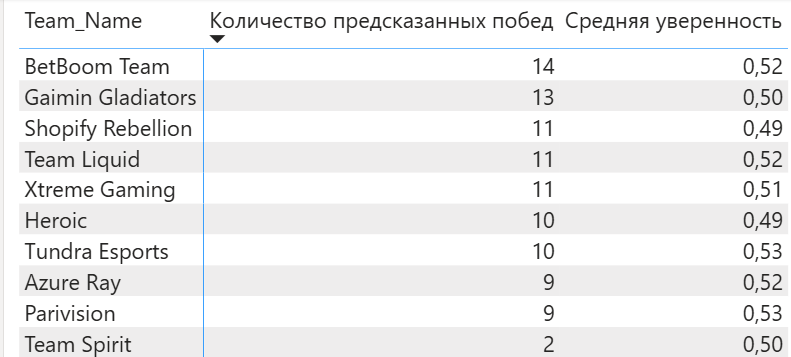

This screenshot's page, from the dashboard's own definition file:
{"tool":"powerbi","page":{"name":"Страница 3","canvas":[1280,720],"ordinal":2},"visuals":[{"type":"pivotTable","fields":{"Rows":["dota2_teams.Team_Name"],"Values":["dota2_futures.Количество побед предсказанное","dota2_futures.Средняя уверенность"]},"box":[9.7,0,864.7,385.2],"z":0}]}

Visuals, with their boxes on the page's 1280x720 design canvas (x1, y1, x2, y2). These are canvas units, not pixel positions in the 791x357 screenshot, which may show the page scaled, cropped or inside an application window:
pivotTable - dota2_teams.Team_Name x dota2_futures.Количество побед предсказанное: l=10, t=0, r=874, b=385
